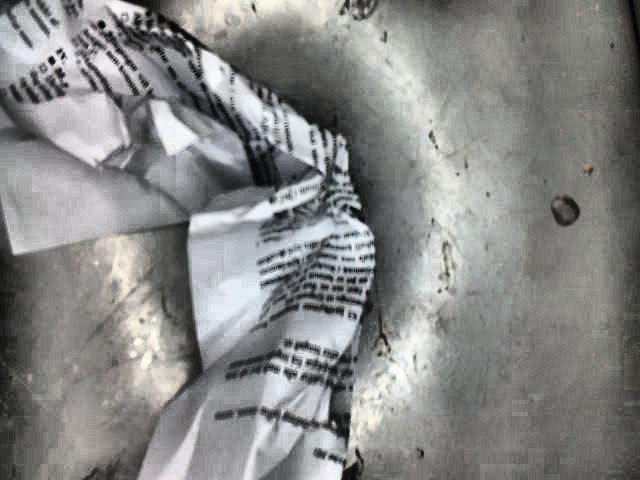Paper: (0, 0, 374, 479)
